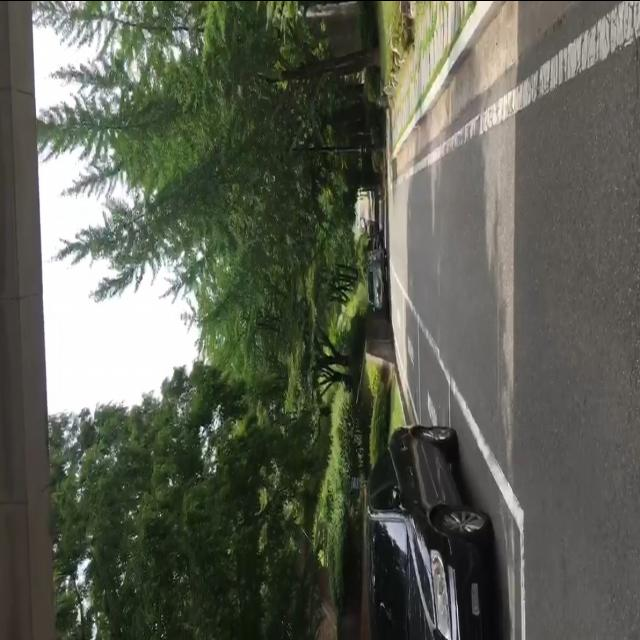obstacle: (362, 422, 491, 640), (368, 246, 389, 309), (360, 216, 380, 234)
road: (389, 0, 640, 640)
sidewalk: (385, 0, 478, 141)
